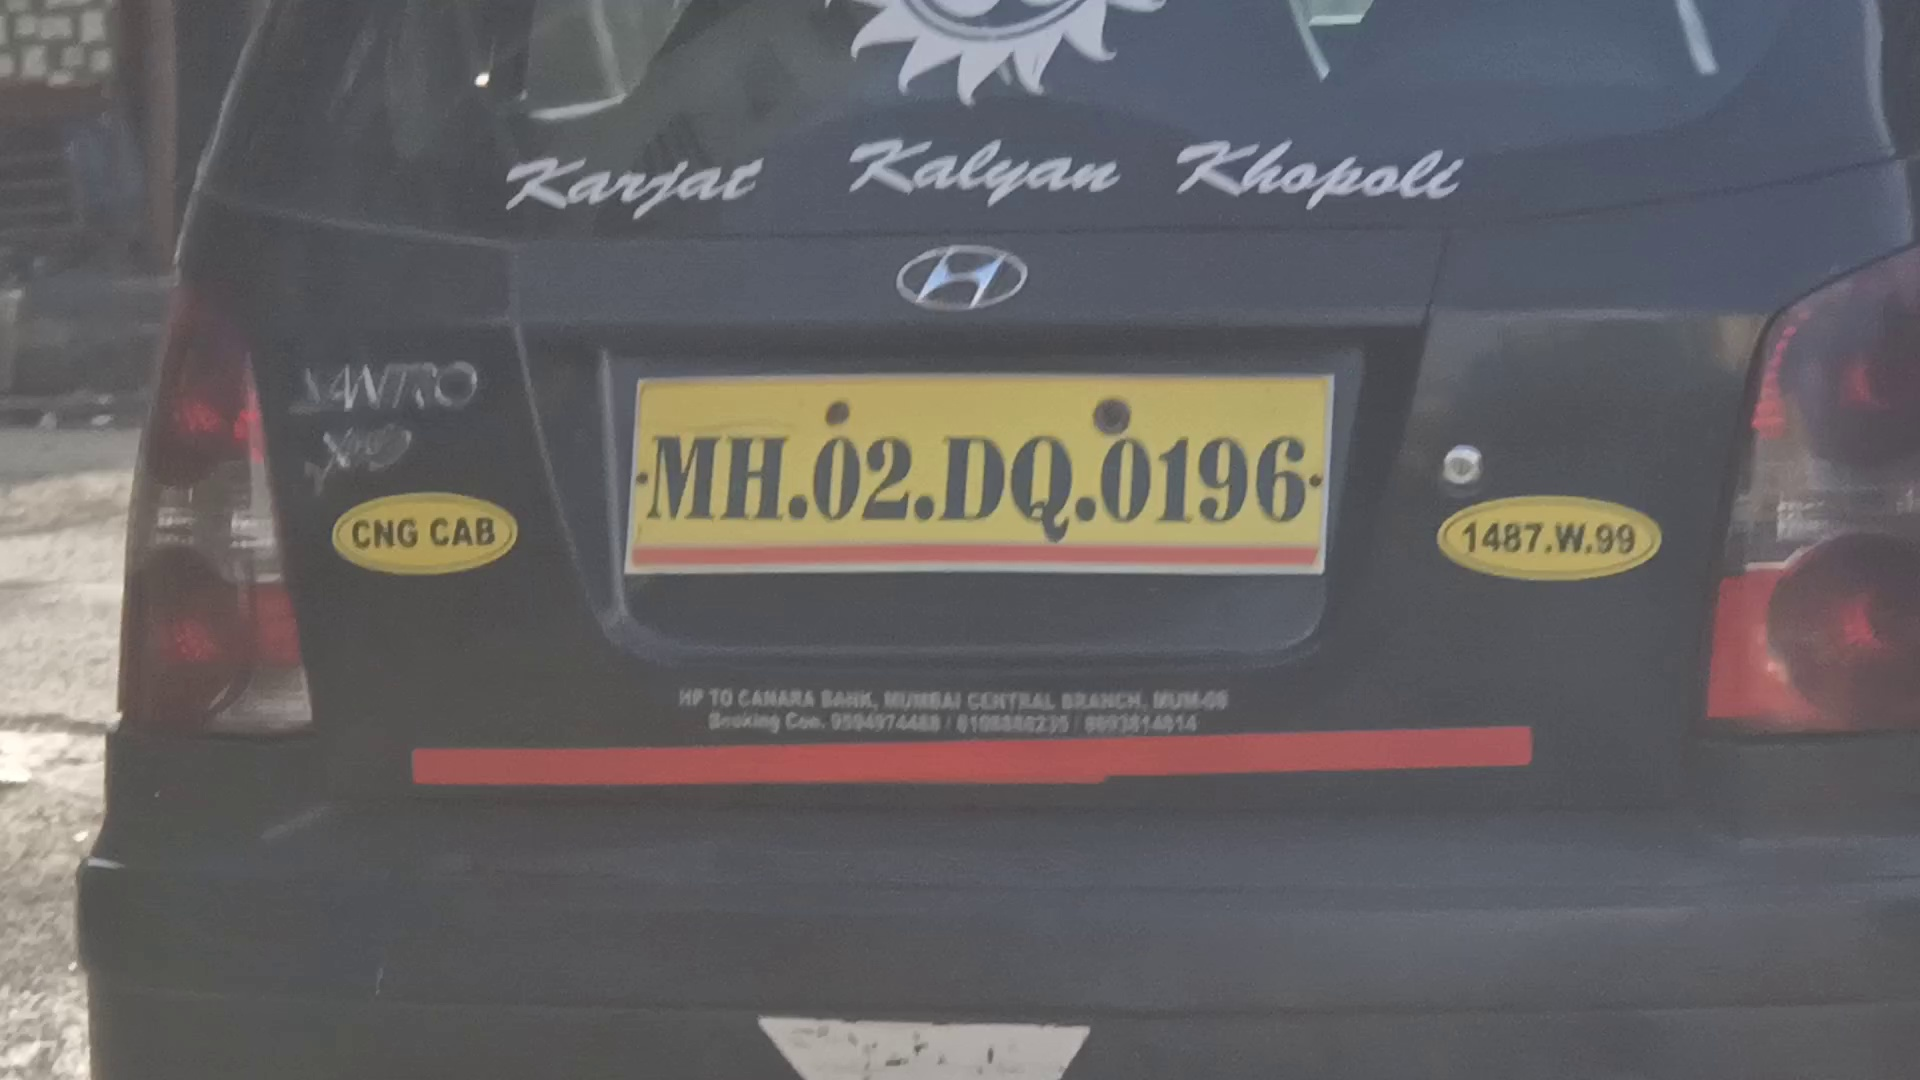MH02DQ0196: (621, 370, 1338, 574)
